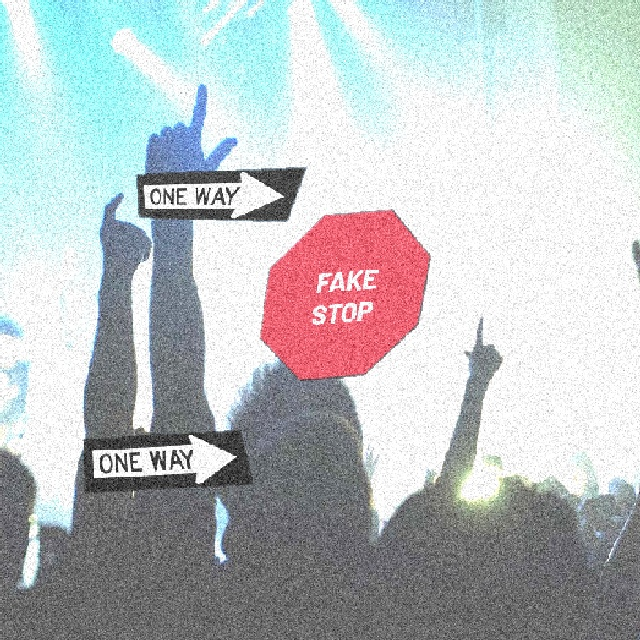FAKE_STOP: (258, 208, 430, 380)
ONE_WAY_ right: (81, 428, 253, 492), (134, 165, 306, 221)
